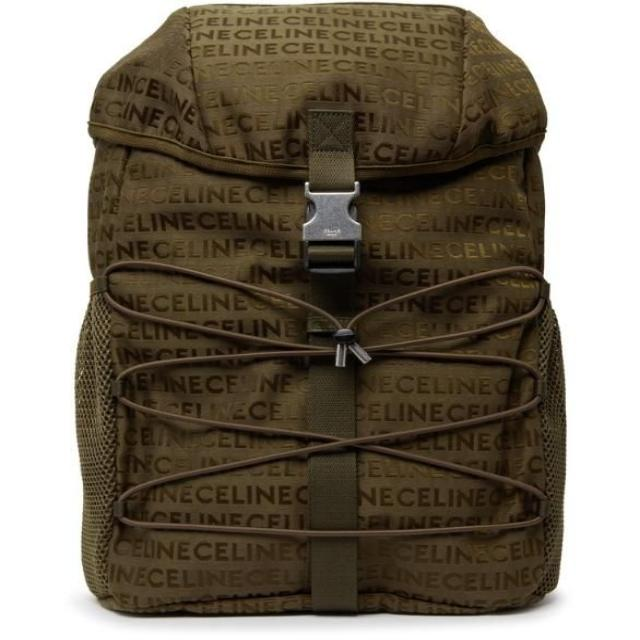backpack: (62, 13, 573, 617)
